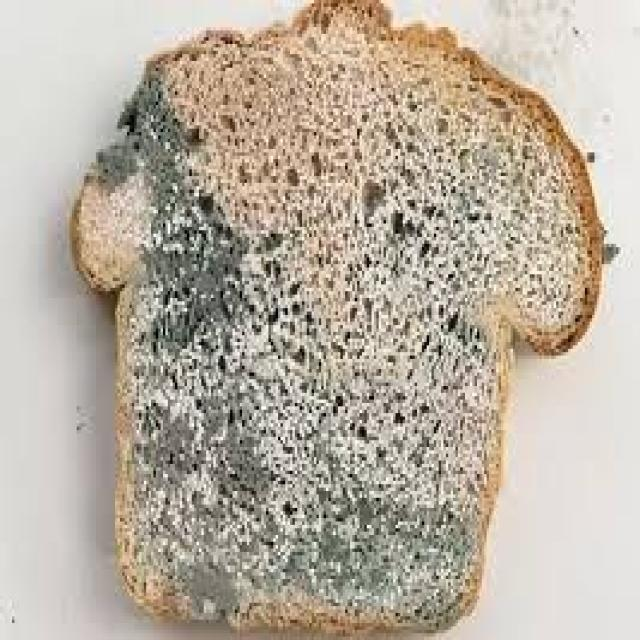organic: (51, 39, 603, 633)
